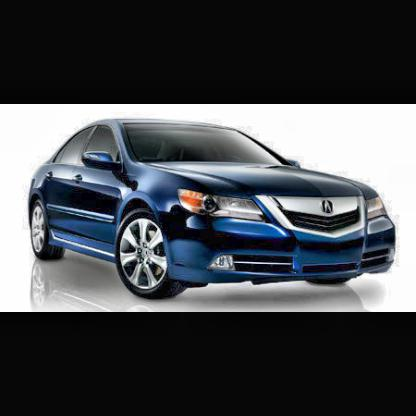Acura RL Sedan 2012: (29, 120, 398, 303)
